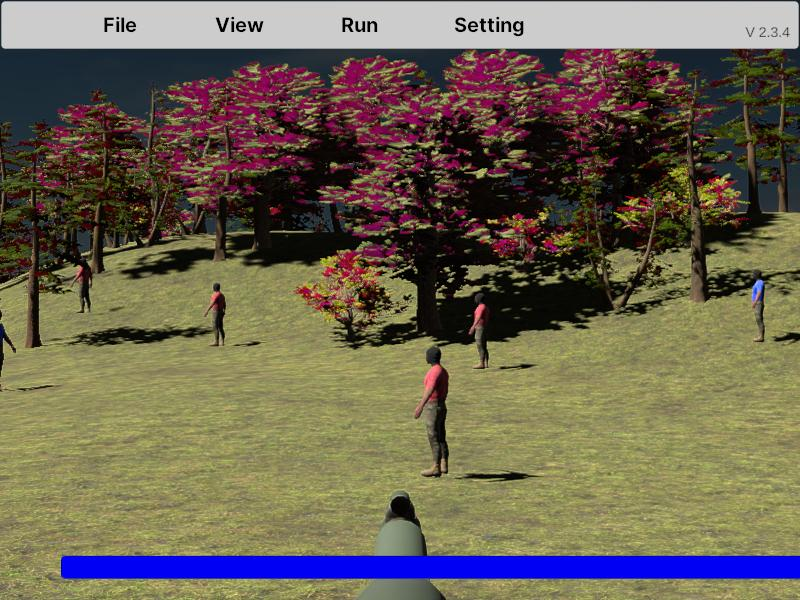Human: (415, 345, 449, 478), (415, 345, 448, 478), (470, 292, 489, 369), (205, 281, 225, 347), (0, 306, 15, 393), (72, 256, 92, 314), (751, 268, 765, 343)
